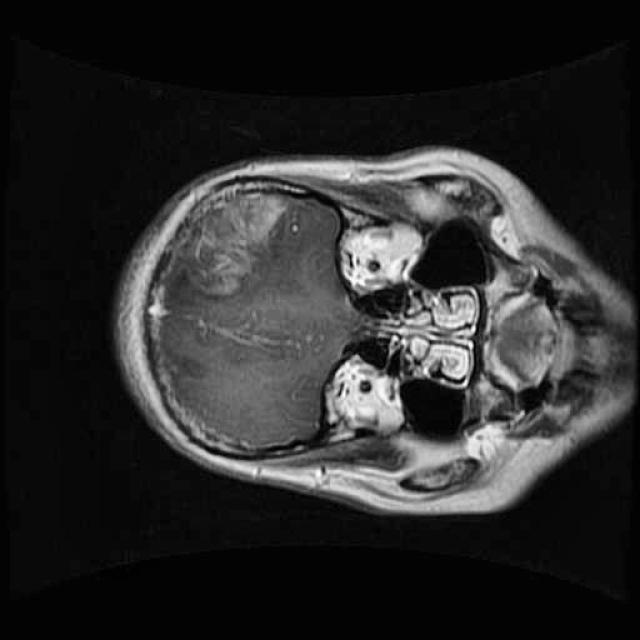Non-Tumor: (149, 148, 312, 314)
